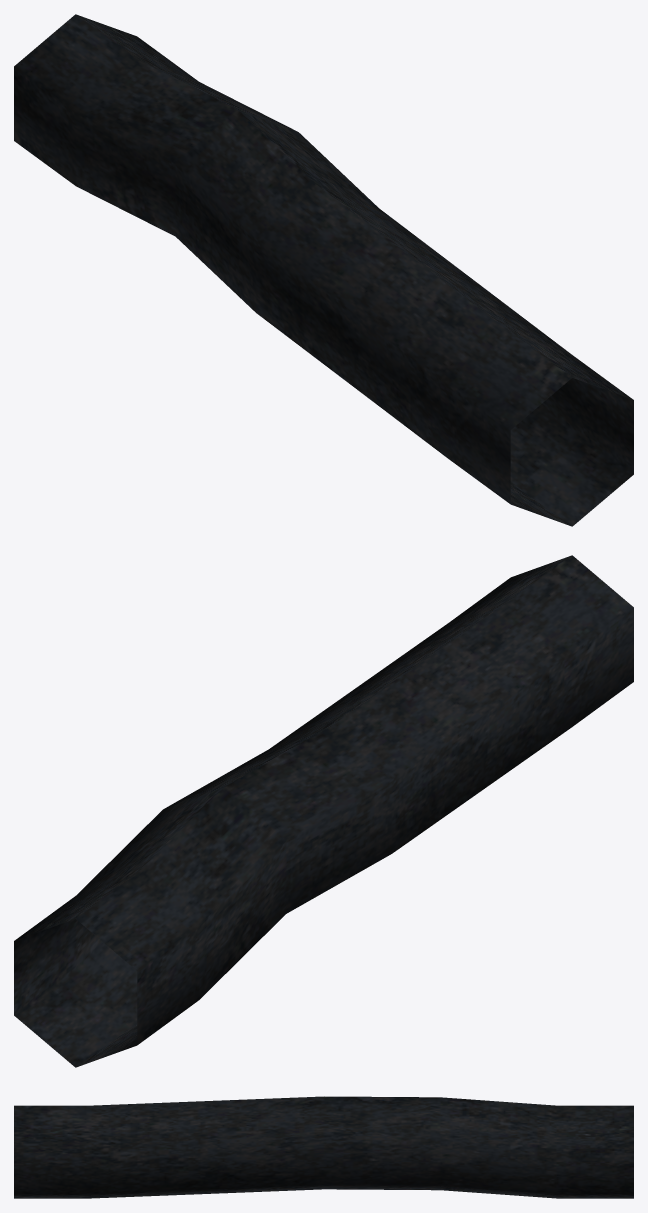
The model's file is cable_thick_med.dae.
The picture shows the model from 3 angles, top to bottom: view 1: azimuth 30°, elevation 25°; view 2: azimuth 150°, elevation 25°; view 3: azimuth 270°, elevation 25°; orthographic projection. The views are drawn at different scales.
Visible parts, largest first — view 1: cable_thick_med; view 2: cable_thick_med; view 3: cable_thick_med.
Boxes of the visible parts, bbox=[...] form: cable_thick_med: bbox=[14, 14, 633, 526]; cable_thick_med: bbox=[14, 555, 633, 1067]; cable_thick_med: bbox=[14, 1096, 633, 1198].
Size of the model in its own units: 15.8 by 18.35 by 100.
